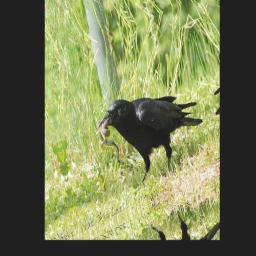Crow: (94, 62, 208, 200)
